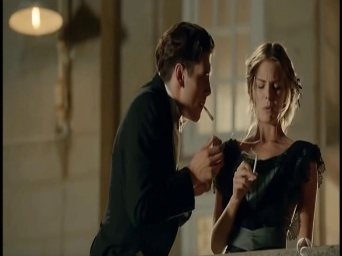smoke: (202, 102, 214, 121), (251, 153, 257, 177)
